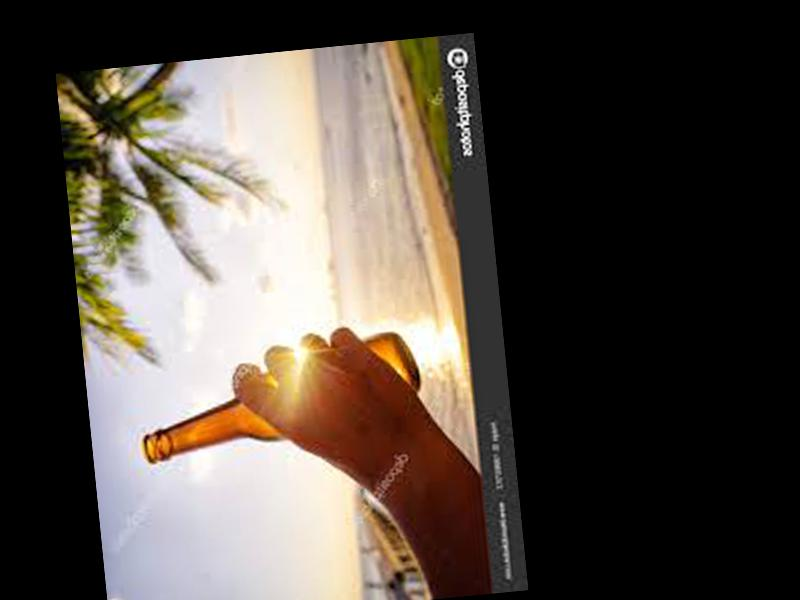Beer: (134, 329, 425, 465)
